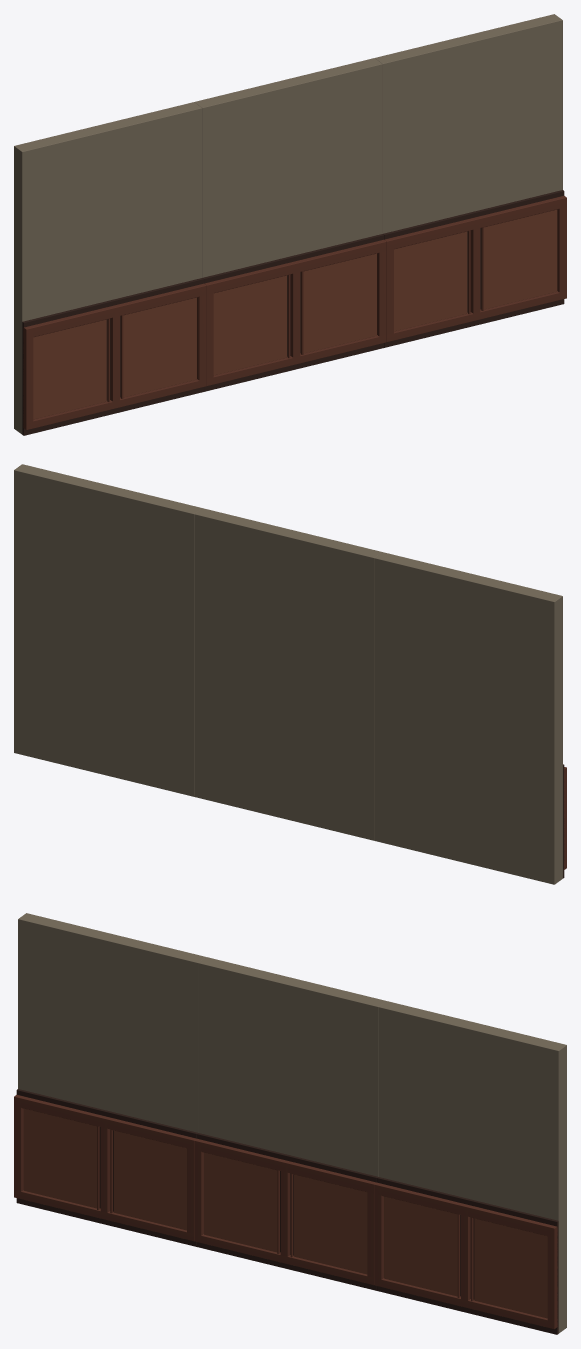
File: BackWall.fbx
3 views of the same model, one above another, from view 1: azimuth 30°, elevation 25°; view 2: azimuth 150°, elevation 25°; view 3: azimuth 330°, elevation 25° (orthographic).
Parts seen in each view (by area): view 1: Bay_01_Wall, Bay_03_Wall, Bay_02_Wall, Bay_01_Inset_1, Bay_01_Inset_2, Bay_02_Inset_2, Bay_02_Inset_1, Bay_03_Inset_1, Bay_03_Inset_2, Bay_01_WainscotBacking, Bay_03_WainscotBacking, Bay_02_WainscotBacking (+15 smaller); view 2: Bay_01_Wall, Bay_02_Wall, Bay_03_Wall; view 3: Bay_03_Wall, Bay_01_Wall, Bay_02_Wall, Bay_02_Inset_1, Bay_03_Inset_1, Bay_03_Inset_2, Bay_01_Inset_2, Bay_02_Inset_2, Bay_01_Inset_1, Bay_03_WainscotBacking, Bay_01_WainscotBacking, Bay_02_WainscotBacking (+15 smaller).
Part boxes in pixels (<box>): Bay_01_Wall: <box>14,102,202,434</box>; Bay_03_Wall: <box>375,14,562,233</box>; Bay_02_Wall: <box>194,58,382,277</box>; Bay_01_Inset_1: <box>33,319,106,419</box>; Bay_01_Inset_2: <box>123,297,196,397</box>; Bay_02_Inset_2: <box>303,253,376,353</box>; Bay_02_Inset_1: <box>213,275,286,375</box>; Bay_03_Inset_1: <box>394,231,467,331</box>; Bay_03_Inset_2: <box>484,209,557,309</box>; Bay_01_WainscotBacking: <box>22,278,203,435</box>; Bay_03_WainscotBacking: <box>383,190,564,347</box>; Bay_02_WainscotBacking: <box>203,234,383,391</box>; Bay_01_Wall: <box>374,552,562,884</box>; Bay_02_Wall: <box>194,508,382,840</box>; Bay_03_Wall: <box>14,464,201,796</box>; Bay_03_Wall: <box>378,1001,566,1333</box>; Bay_01_Wall: <box>18,913,205,1132</box>; Bay_02_Wall: <box>198,957,386,1176</box>; Bay_02_Inset_1: <box>204,1152,277,1252</box>; Bay_03_Inset_1: <box>384,1196,457,1296</box>; Bay_03_Inset_2: <box>474,1218,547,1318</box>; Bay_01_Inset_2: <box>113,1130,186,1230</box>; Bay_02_Inset_2: <box>294,1174,367,1274</box>; Bay_01_Inset_1: <box>23,1108,96,1208</box>; Bay_03_WainscotBacking: <box>377,1177,558,1334</box>; Bay_01_WainscotBacking: <box>16,1089,197,1246</box>; Bay_02_WainscotBacking: <box>197,1133,377,1290</box>.
Bounding box in the file's own units: 600 × 300 × 24.
